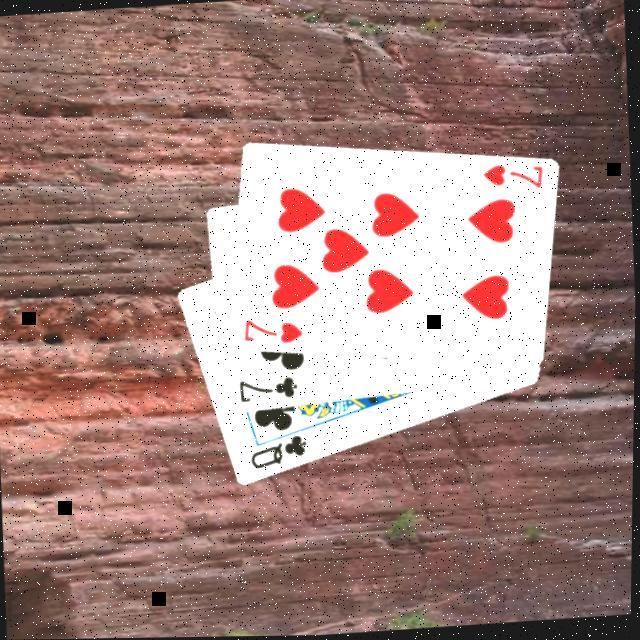7C: (236, 373, 301, 407)
7H: (478, 159, 546, 196), (238, 314, 306, 350)
QC: (246, 431, 312, 473)
